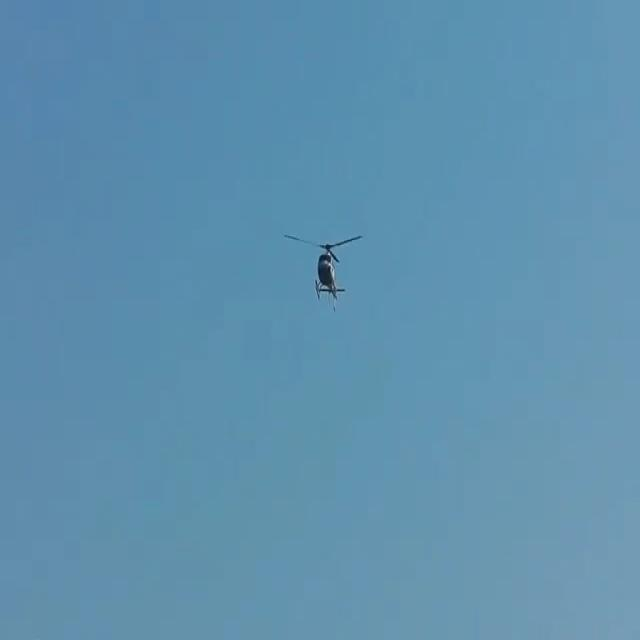Helicopter: (286, 226, 368, 319)
